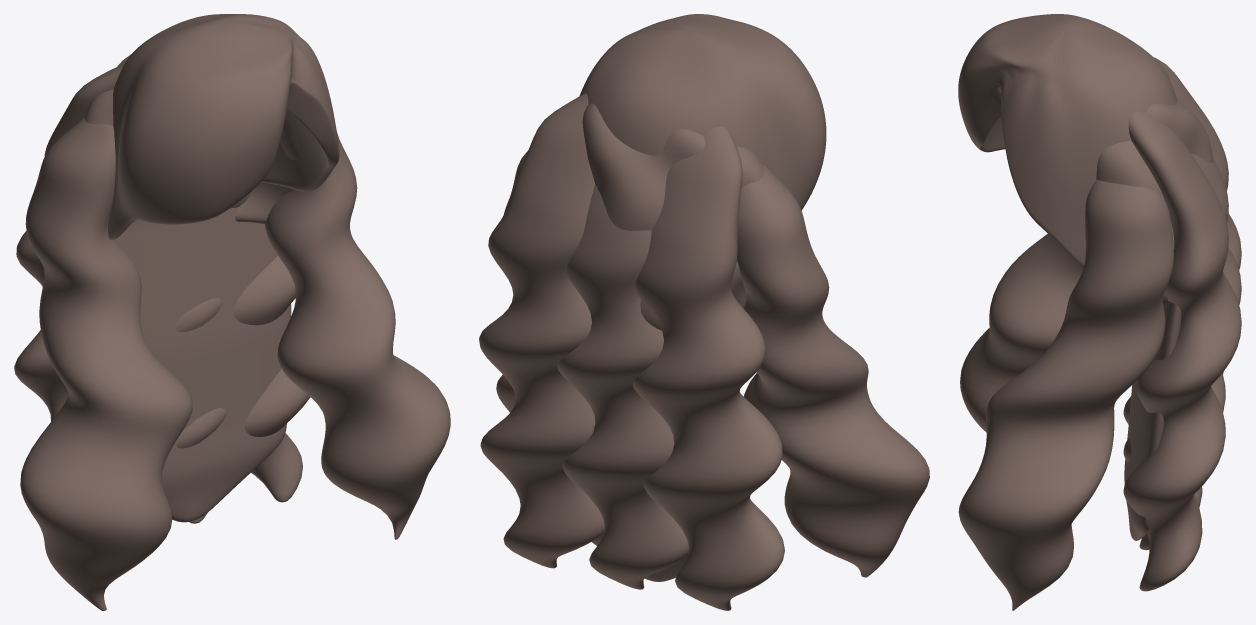
The model's file is hair_long_wave.glb.
The picture shows the model from 3 angles, left to right: view 1: azimuth 30°, elevation 25°; view 2: azimuth 150°, elevation 25°; view 3: azimuth 270°, elevation 25°; orthographic projection. The views are drawn at different scales.
Parts seen in each view (by area): view 1: hair_side_l, hair_scalp, hair_side_r, hair_nape, hair_back_r, hair_back_l, hair_occipital, hair_back_c; view 2: hair_back_l, hair_side_l, hair_back_r, hair_scalp, hair_back_c, hair_occipital, hair_side_r; view 3: hair_side_r, hair_scalp, hair_back_r, hair_side_l, hair_occipital, hair_nape, hair_back_c, hair_back_l.
Boxes of the visible parts, <box> form: hair_side_l: <box>20,117,192,610</box>; hair_scalp: <box>108,14,339,240</box>; hair_side_r: <box>264,117,450,539</box>; hair_nape: <box>114,207,291,522</box>; hair_back_r: <box>230,191,310,502</box>; hair_back_l: <box>14,63,140,421</box>; hair_occipital: <box>85,54,292,224</box>; hair_back_c: <box>174,298,226,523</box>; hair_back_l: <box>632,126,784,610</box>; hair_side_l: <box>737,164,929,577</box>; hair_back_r: <box>479,93,604,568</box>; hair_scalp: <box>579,14,826,210</box>; hair_back_c: <box>557,184,688,589</box>; hair_occipital: <box>582,103,764,330</box>; hair_side_r: <box>496,150,528,412</box>; hair_side_r: <box>958,180,1173,610</box>; hair_scalp: <box>958,14,1177,267</box>; hair_back_r: <box>1123,111,1241,591</box>; hair_side_l: <box>960,233,1083,432</box>; hair_occipital: <box>1096,62,1213,306</box>; hair_nape: <box>1124,222,1181,540</box>; hair_back_c: <box>1123,153,1241,550</box>; hair_back_l: <box>1123,57,1241,424</box>.
Size of the model in its own units: 3.44 by 4.22 by 2.11.
